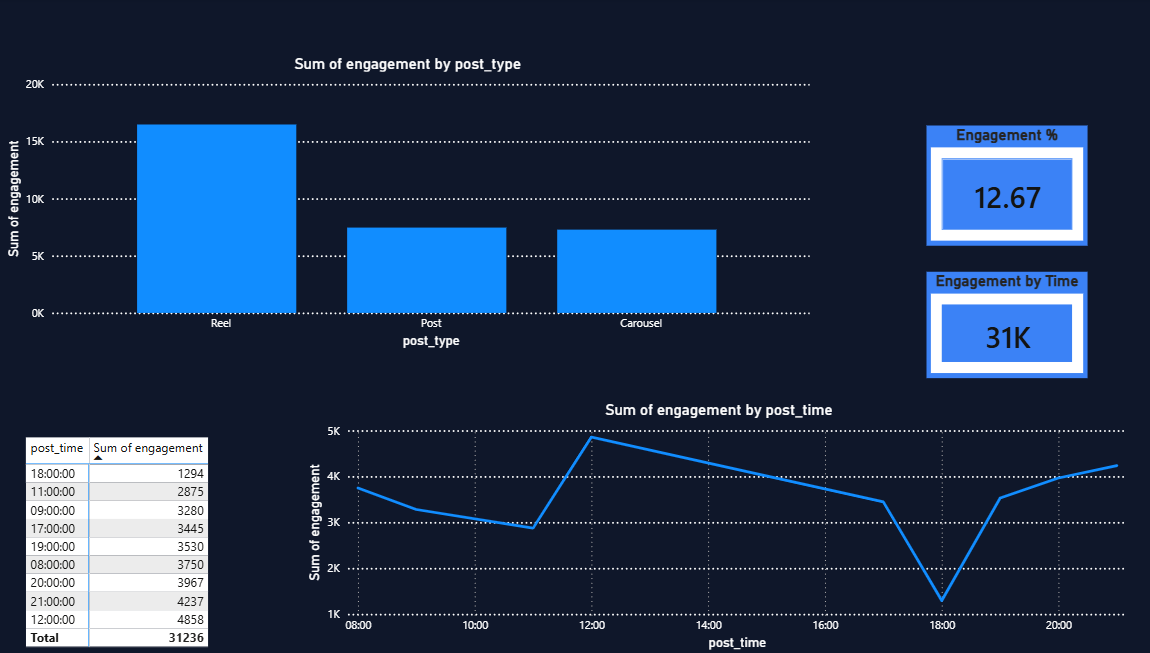

The page's visual inventory and layout, read from the dashboard file:
{"tool":"powerbi","page":{"name":"Page 1","canvas":[1280,720],"ordinal":0},"visuals":[{"type":"clusteredColumnChart","fields":{"Category":["social_data.post_type"],"Y":["Sum(social_data.engagement)"]},"box":[19.2,61.7,891.9,328],"z":0},{"type":"cardVisual","title":"Engagement by Time","fields":{"Data":["Sum(social_data.engagement)"]},"box":[1034.7,300.5,177,116.6],"z":1000},{"type":"lineChart","fields":{"Category":["social_data.post_time"],"Y":["Sum(social_data.engagement)"]},"box":[349.9,441.9,913.9,278.6],"z":2000},{"type":"cardVisual","title":"Engagement %","fields":{"Data":["Sum(social_data.engagement_rate)"]},"box":[1034.7,140,177,131.7],"z":3000},{"type":"pivotTable","fields":{"Rows":["social_data.post_time"],"Values":["Sum(social_data.engagement)"]},"box":[41.2,477.5,216.8,242.9],"z":4000}]}

Visuals, with their boxes in screenshot pixels (x1, y1, x2, y2), scaled from the page's 1280x720 canvas onto the 1150x653 screenshot:
clusteredColumnChart - social_data.post_type x Sum(social_data.engagement): l=17, t=56, r=819, b=353
"Engagement by Time" cardVisual: l=930, t=273, r=1089, b=378
lineChart - social_data.post_time x Sum(social_data.engagement): l=314, t=401, r=1135, b=652
"Engagement %" cardVisual: l=930, t=127, r=1089, b=246
pivotTable - social_data.post_time x Sum(social_data.engagement): l=37, t=433, r=232, b=652
